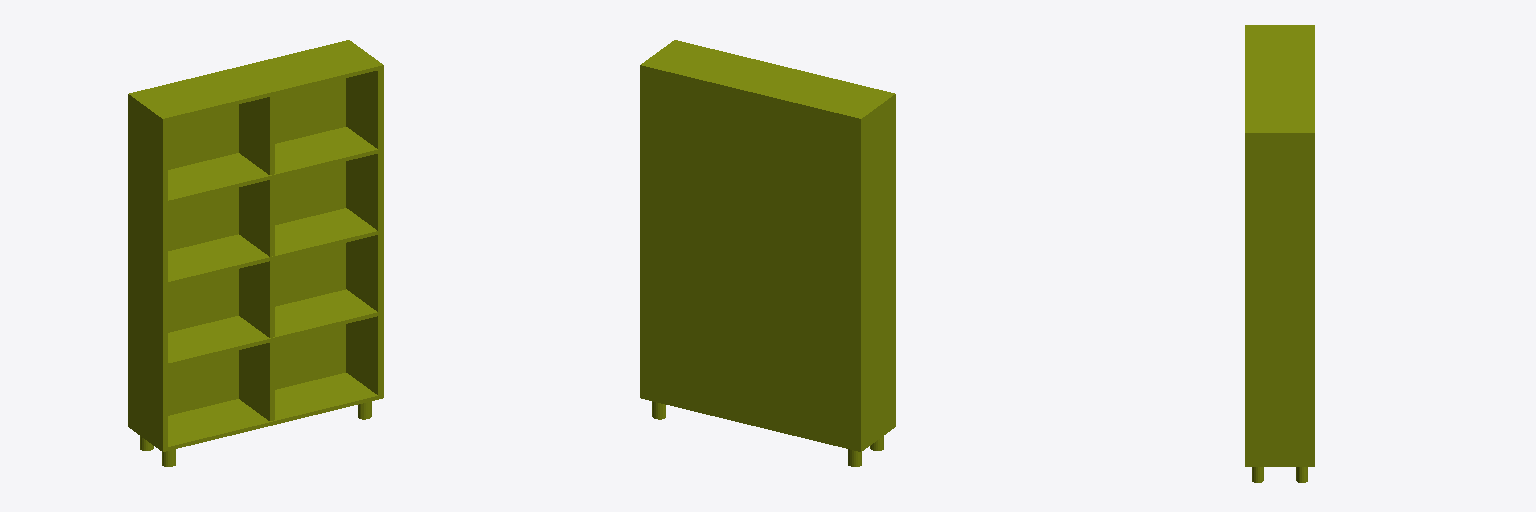
Rendered from bookcase2.obj.
3 renders of one model, left to right at view 1: azimuth 30°, elevation 25°; view 2: azimuth 150°, elevation 25°; view 3: azimuth 270°, elevation 25°, orthographic.
Visible parts, largest first — view 1: Bookcase; view 2: Bookcase; view 3: Bookcase.
Boxes of the visible parts, box(x1,y1,x2,y2) form: Bookcase: box(128, 40, 383, 466); Bookcase: box(640, 40, 895, 466); Bookcase: box(1245, 25, 1314, 482).
Bounding box in the file's own units: 2.32 × 3.54 × 0.6288.